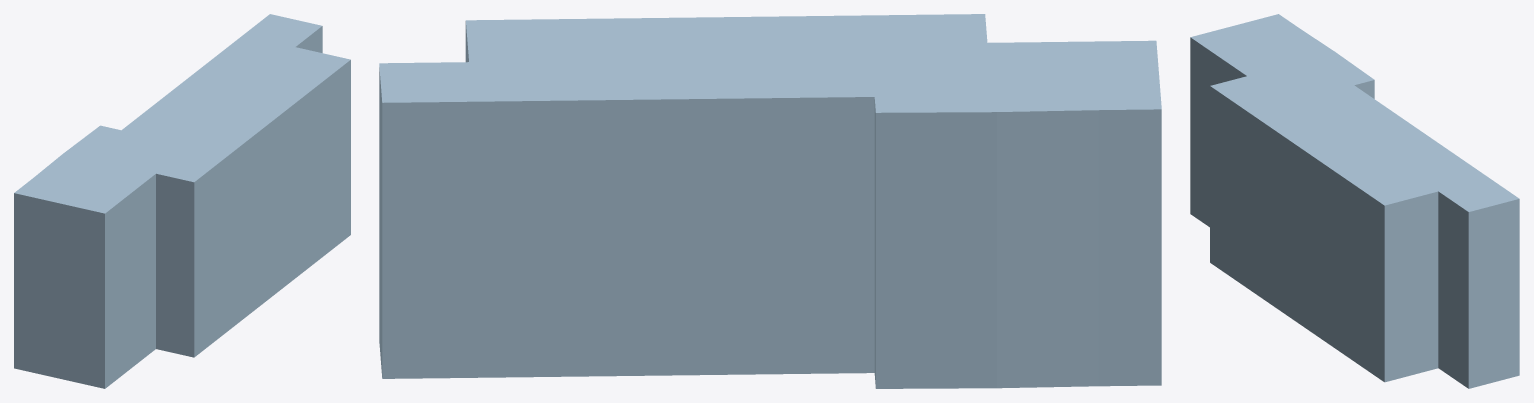
File: osm_way_225198909.glb
3 views of the same model, side by side, from view 1: azimuth 30°, elevation 25°; view 2: azimuth 150°, elevation 25°; view 3: azimuth 270°, elevation 25° (orthographic). The views are drawn at different scales.
Parts seen in each view (by area): view 1: osm_way_225198909; view 2: osm_way_225198909; view 3: osm_way_225198909.
Boxes of the visible parts, x1=… form: osm_way_225198909: x1=14, y1=14, x2=350, y2=388; osm_way_225198909: x1=379, y1=14, x2=1161, y2=388; osm_way_225198909: x1=1190, y1=14, x2=1519, y2=388.
Size of the model in its own units: 46.15 by 19.2 by 32.41.
